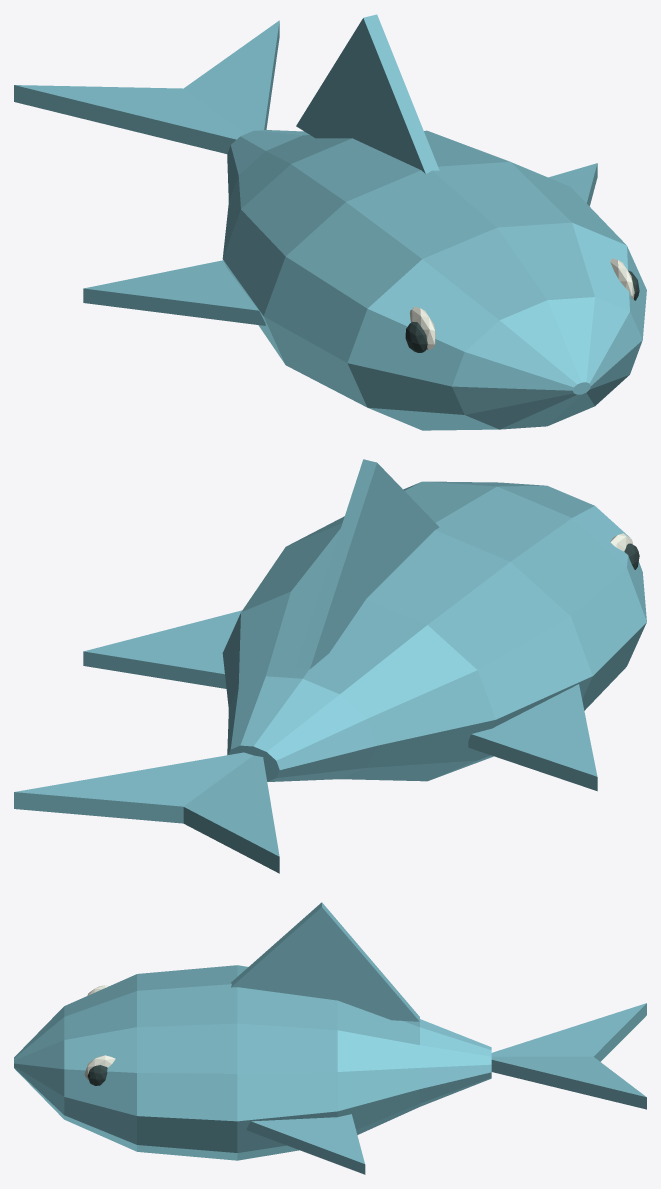
File: FishBlue.fbx
The picture shows the model from 3 angles, top to bottom: view 1: azimuth 30°, elevation 25°; view 2: azimuth 150°, elevation 25°; view 3: azimuth 270°, elevation 25°; orthographic projection. The views are drawn at different scales.
Visible parts, largest first — view 1: Tapered sculpted body.002, Volume fork tail.002, Sculpted dorsal fin.002, Solid swept side fin.004, Solid swept side fin.005; view 2: Tapered sculpted body.002, Volume fork tail.002, Sculpted dorsal fin.002, Solid swept side fin.004, Solid swept side fin.005; view 3: Tapered sculpted body.002, Sculpted dorsal fin.002, Volume fork tail.002, Solid swept side fin.005.
Boxes of the visible parts, x1,y1,x2,y2 form: Tapered sculpted body.002: (222, 130, 646, 430); Volume fork tail.002: (14, 20, 279, 153); Sculpted dorsal fin.002: (296, 14, 439, 173); Solid swept side fin.004: (83, 260, 265, 325); Solid swept side fin.005: (548, 163, 597, 206); Tapered sculpted body.002: (222, 481, 646, 781); Volume fork tail.002: (14, 752, 279, 873); Sculpted dorsal fin.002: (296, 459, 439, 669); Solid swept side fin.004: (468, 684, 597, 791); Solid swept side fin.005: (83, 610, 241, 688); Tapered sculpted body.002: (14, 965, 491, 1160); Sculpted dorsal fin.002: (231, 902, 419, 1021); Volume fork tail.002: (491, 1003, 646, 1109); Solid swept side fin.005: (246, 1114, 365, 1174).
Bounding box in the file's own units: 89 × 54 × 130.
